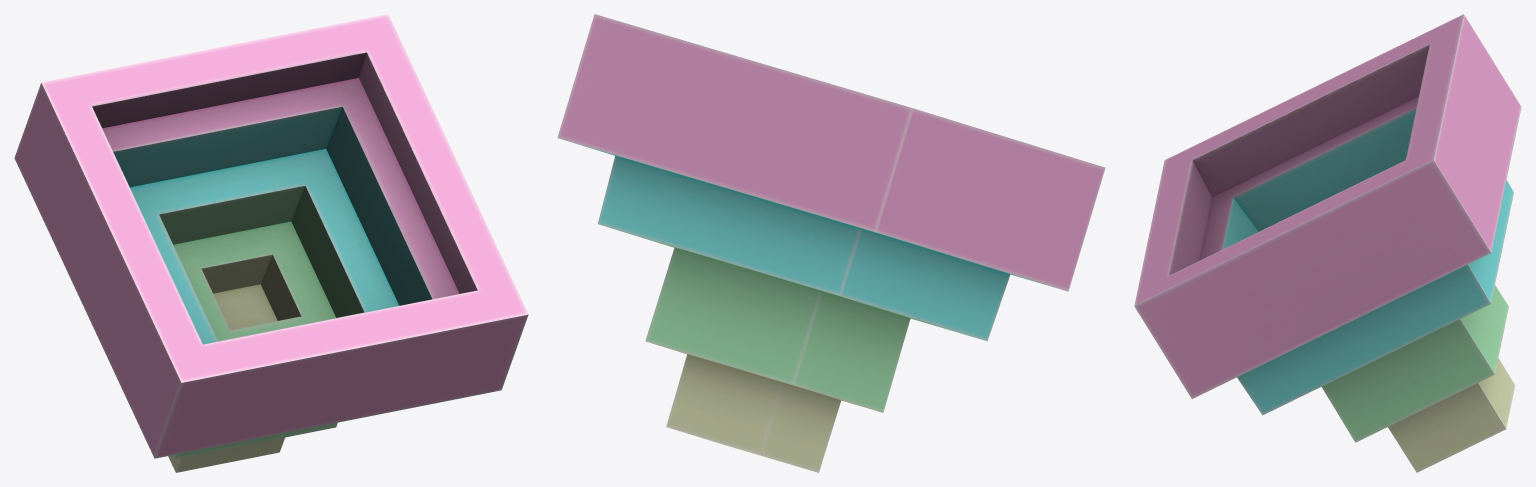
Rendered from Bismuto.fbx.
3 views of the same model, side by side, from view 1: azimuth 30°, elevation 25°; view 2: azimuth 150°, elevation 25°; view 3: azimuth 270°, elevation 25° (orthographic). The views are drawn at different scales.
Visible parts, largest first — view 1: Bi_model; view 2: Bi_model; view 3: Bi_model.
Boxes of the visible parts, x1=… form: Bi_model: x1=14, y1=14, x2=528, y2=472; Bi_model: x1=557, y1=14, x2=1105, y2=472; Bi_model: x1=1134, y1=14, x2=1521, y2=472.
Size of the model in its own units: 76.12 by 74.09 by 79.17.
Materials: 1 (1 with a texture image).
